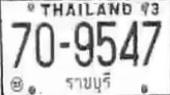0: (34, 21, 54, 67)
4: (119, 20, 138, 66)
5: (96, 20, 116, 66)
7: (10, 21, 31, 68), (141, 20, 161, 66)
9: (73, 20, 93, 66)
RBR: (63, 71, 115, 94)
